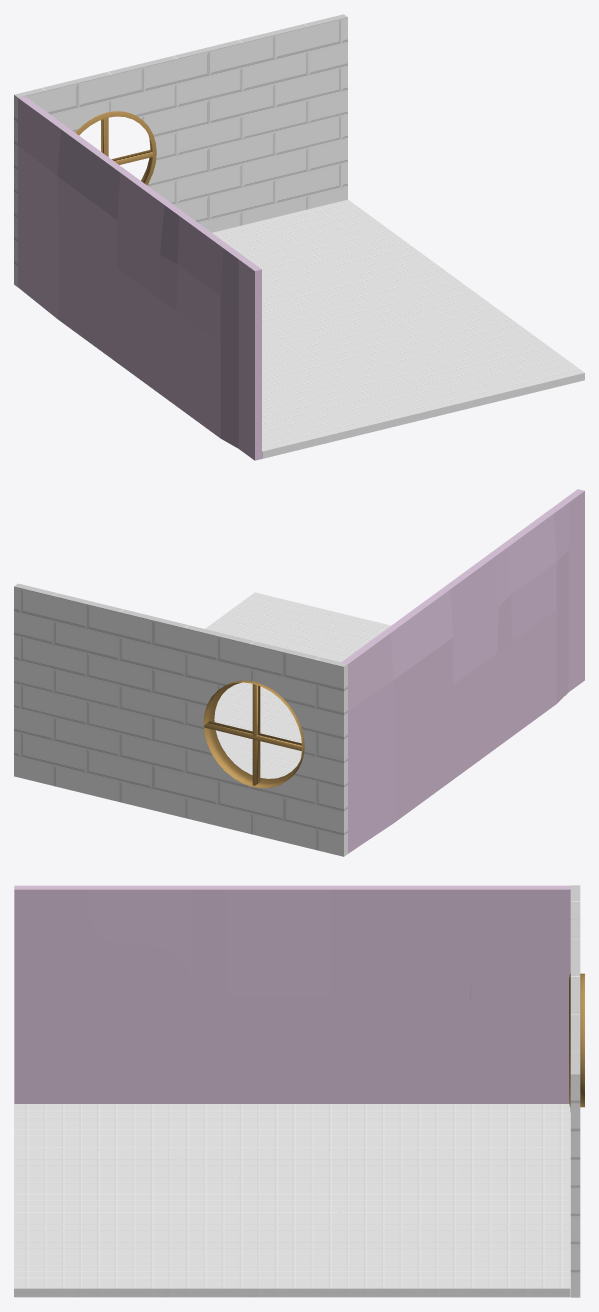
The model's file is room.fbx.
3 views of the same model, one above another, from view 1: azimuth 30°, elevation 25°; view 2: azimuth 150°, elevation 25°; view 3: azimuth 270°, elevation 25° (orthographic). The views are drawn at different scales.
Visible parts, largest first — view 1: floor, pink, white, WINDOW; view 2: white, pink, floor, WINDOW; view 3: pink, floor, white, WINDOW.
Boxes of the visible parts, left/top/right/bottom form: floor: left=212, top=199, right=584, bottom=458; pink: left=18, top=96, right=261, bottom=460; white: left=14, top=14, right=347, bottom=286; WINDOW: left=75, top=111, right=156, bottom=184; white: left=14, top=583, right=347, bottom=856; pink: left=341, top=489, right=584, bottom=853; floor: left=205, top=592, right=390, bottom=778; WINDOW: left=203, top=680, right=304, bottom=788; pink: left=14, top=885, right=570, bottom=1111; floor: left=14, top=1104, right=570, bottom=1297; white: left=570, top=885, right=580, bottom=1297; WINDOW: left=569, top=973, right=584, bottom=1107.
Size of the model in its own units: 4174 by 2265 by 5256.
